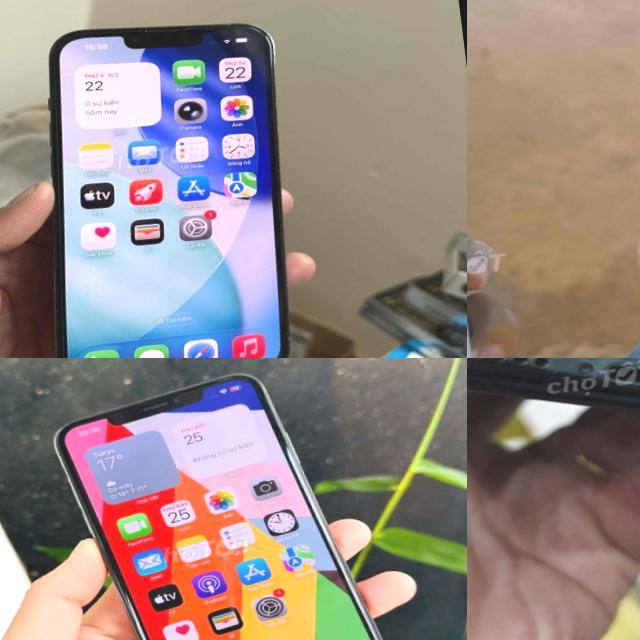gen_11: (467, 358, 640, 506)
gen_12_13: (22, 5, 322, 358)
gen_x_xs: (55, 374, 381, 640)
